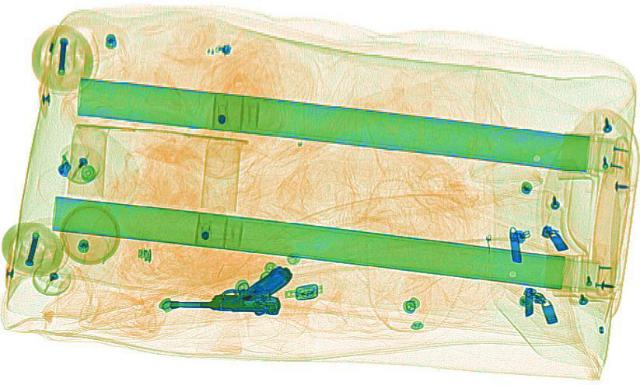Gun: (156, 263, 294, 312)
